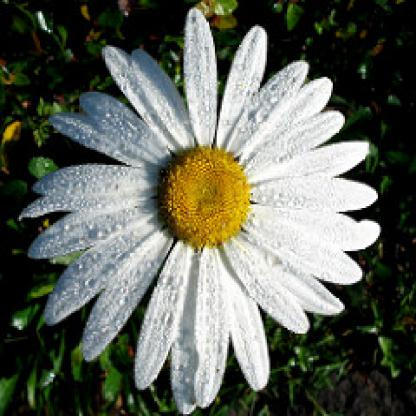ASTER: (20, 16, 391, 406)
